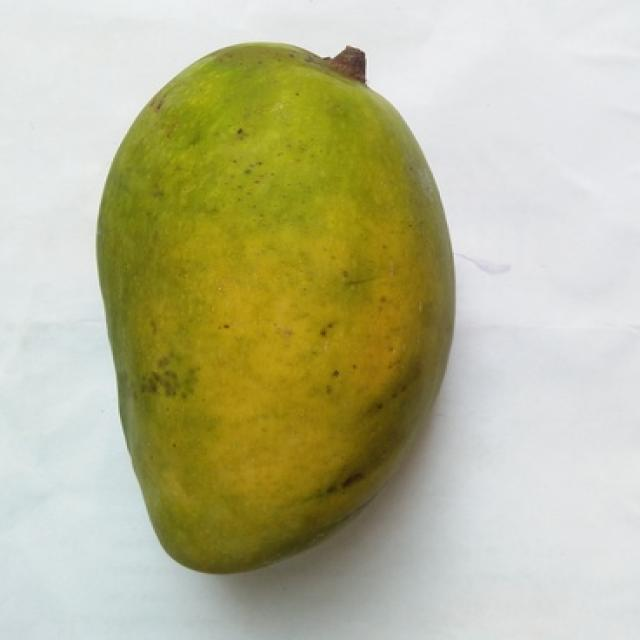Mango: (97, 44, 454, 572)
